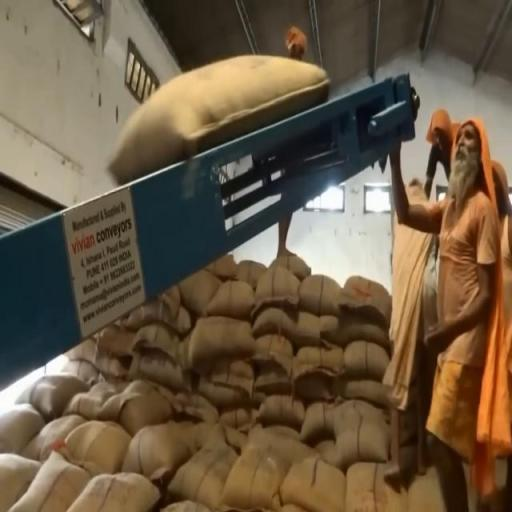c-belt-sack-count: (110, 55, 328, 183)
